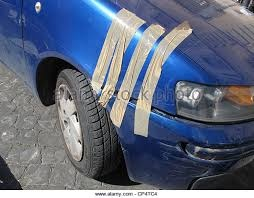Scratch: (187, 136, 250, 177), (162, 151, 201, 187), (34, 41, 47, 52)
